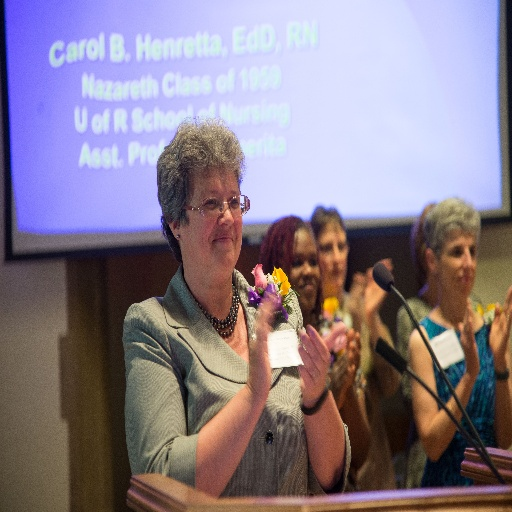hand: (246, 289, 277, 399), (298, 331, 339, 405), (487, 285, 511, 361), (457, 293, 478, 376), (366, 258, 395, 311), (342, 325, 363, 392), (345, 270, 366, 329), (330, 350, 350, 397)
